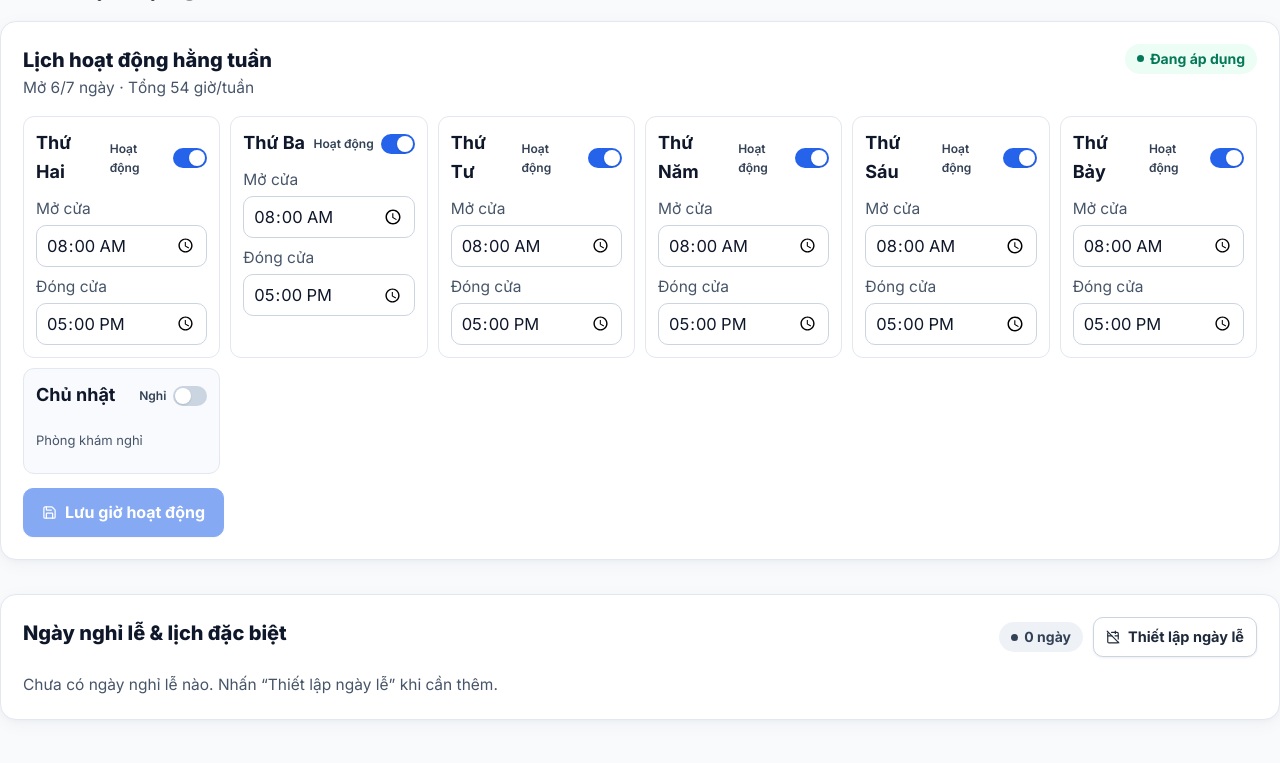
it: ClinicHoursPage › thêm được khoảng ngày nghỉ lễ liên tiếp
Expected: the text "Mở 6/7 ngày · Tổng 54 giờ/tuần" is shown, [23,78,254,96]
Step 1. Click the button "Thiết lập ngày lễ" → [1175, 637], box [1093,618,1257,657]
(page scrolled)
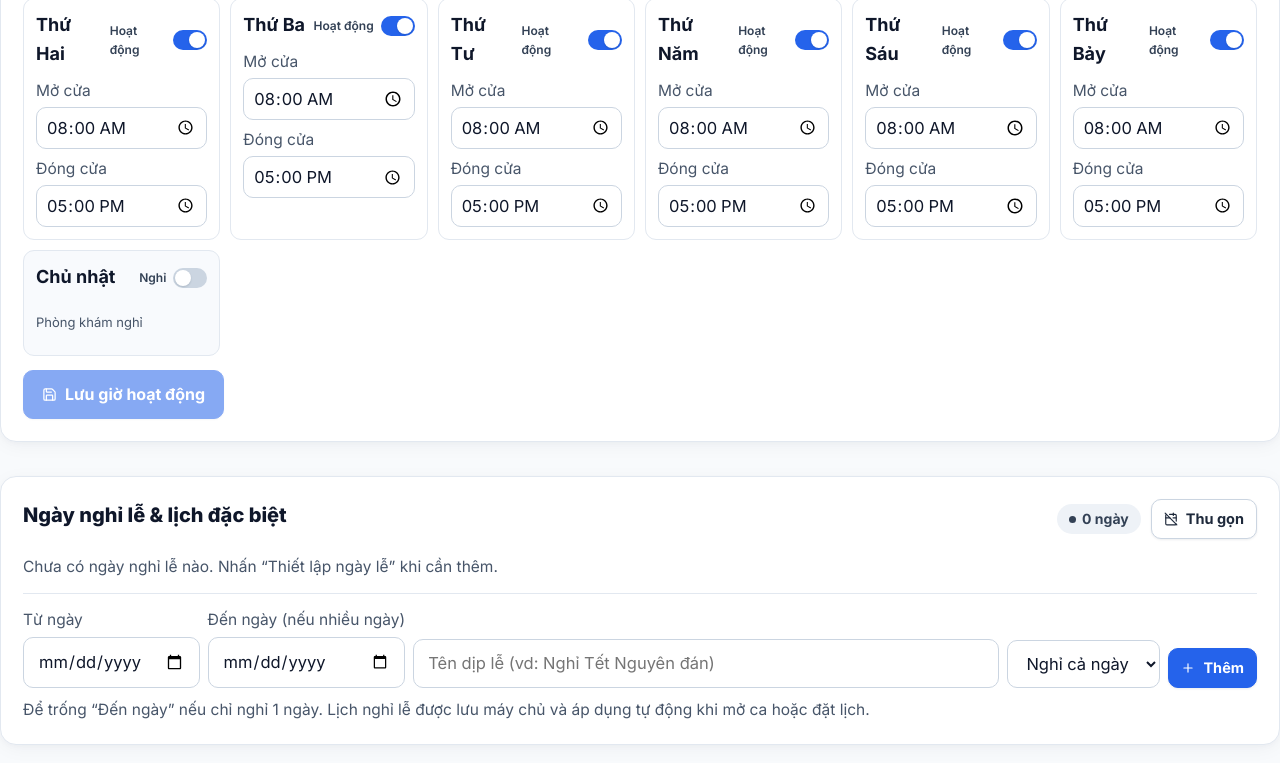
Step 2. Type "2026-09-01" into the date field named "Từ ngày nghỉ lễ" → [111, 662], box [23,637,200,688]
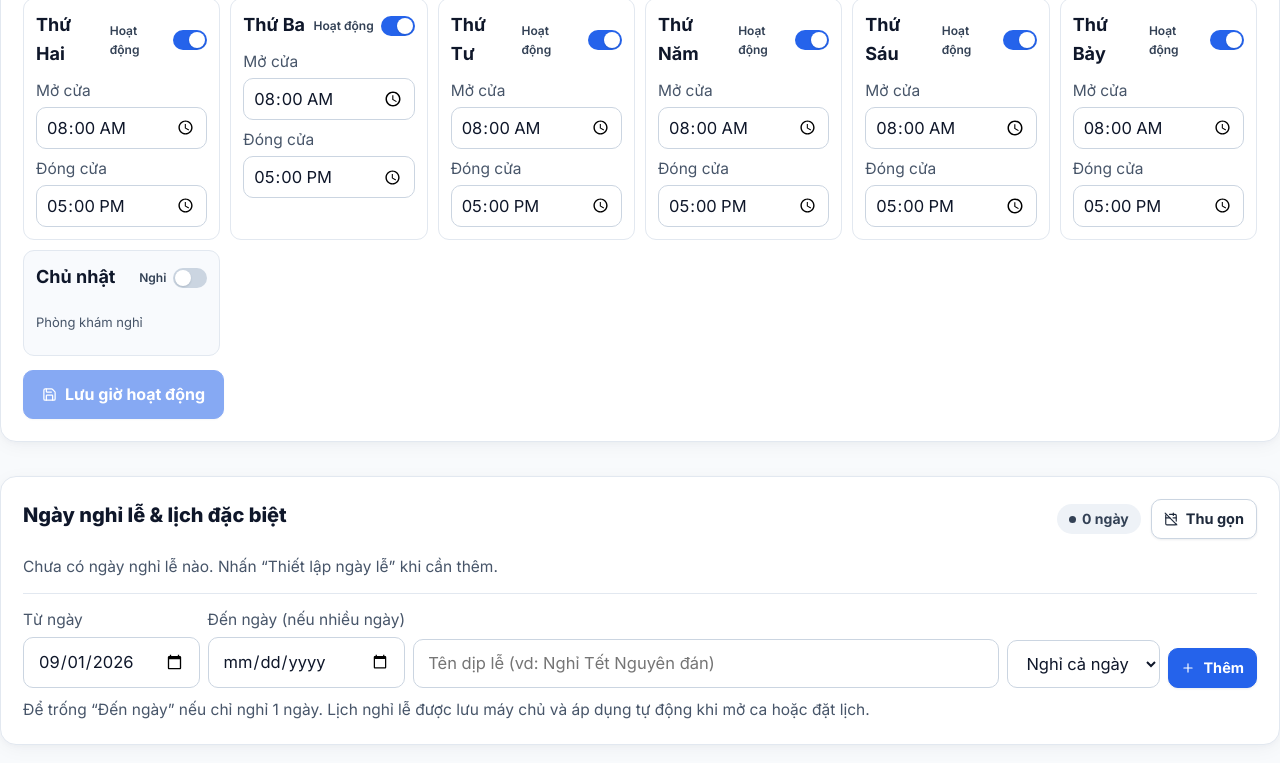
Step 3. Type "2026-09-04" into the date field named "Đến ngày nghỉ lễ" → [306, 662], box [208,637,405,688]
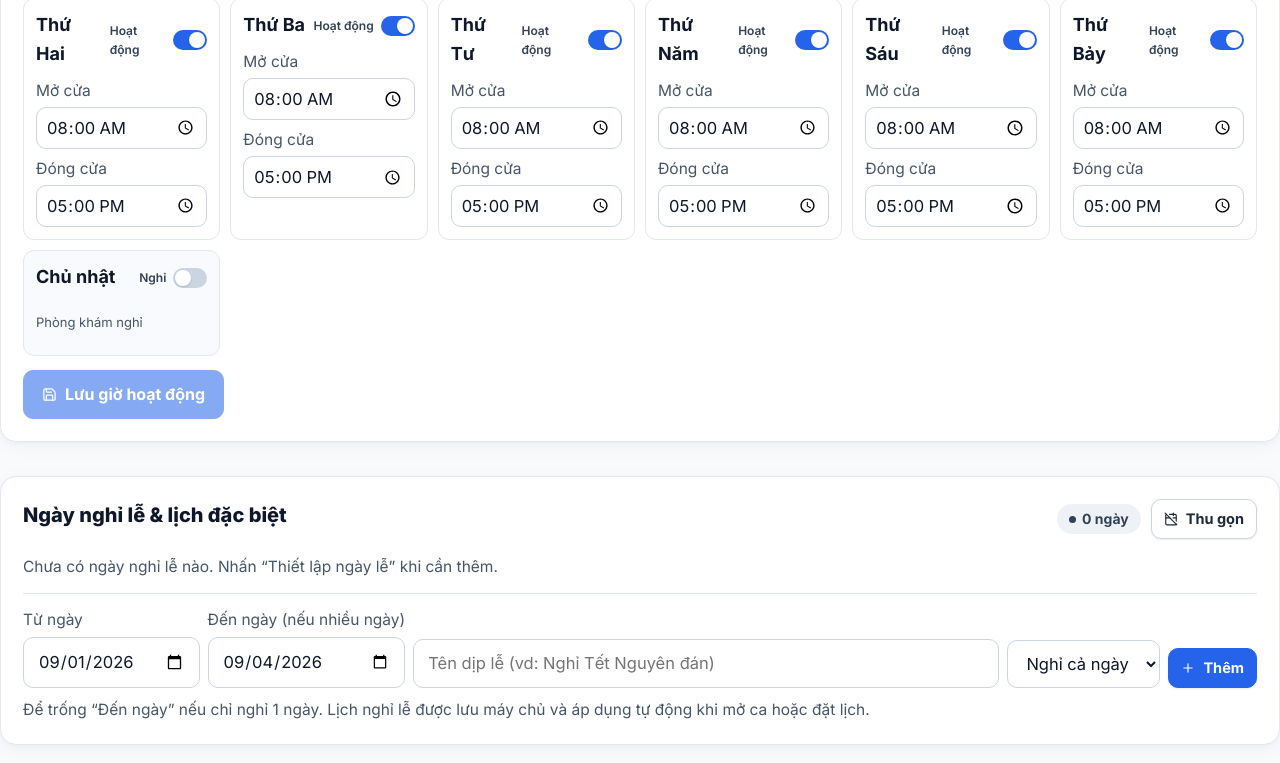
Step 4. Type "Nghỉ lễ Quốc khánh" into the field labelled "Tên dịp lễ" → [706, 663], box [413,639,1000,688]
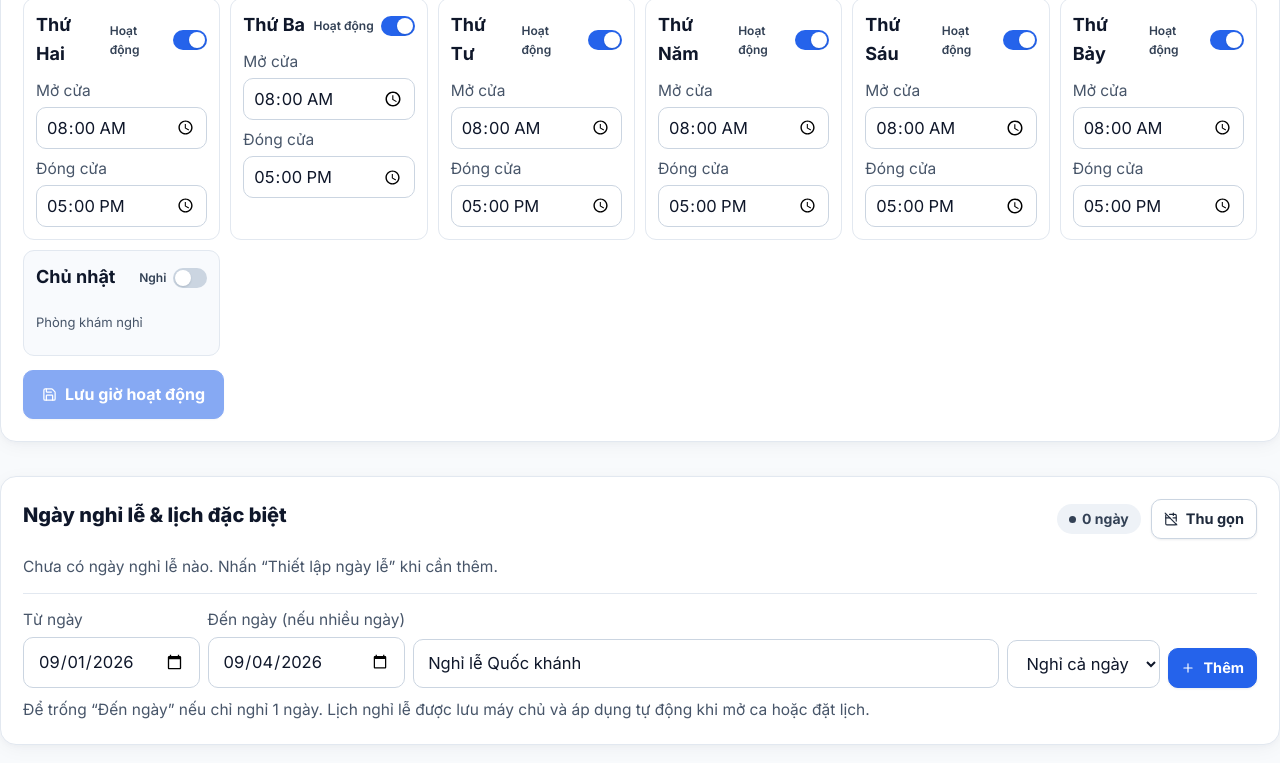
Step 5. Click the button "Thêm" → [1213, 668], box [1168,648,1257,688]
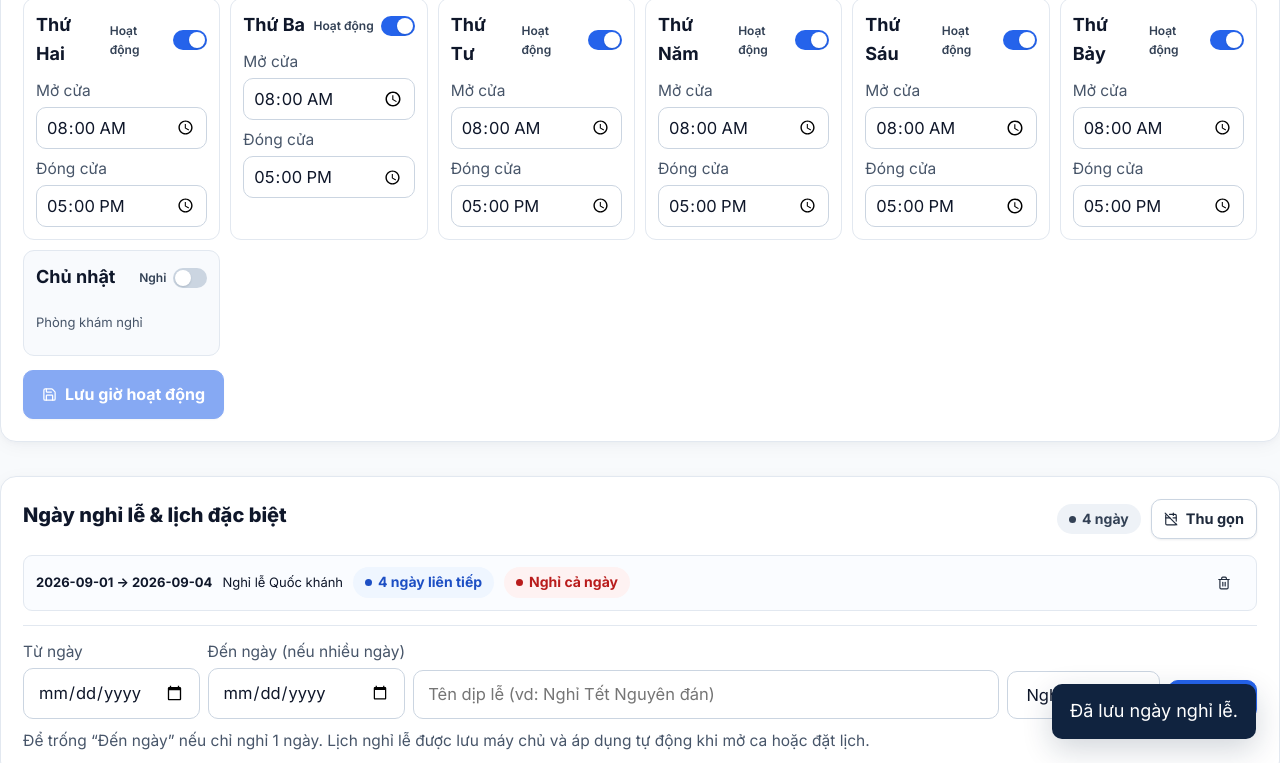
Now the text "Nghỉ lễ Quốc khánh" is shown, box [222,572,343,593]
Now the text "4 ngày liên tiếp" is shown, box [353,567,494,598]
Now the text "4 ngày" is shown, box [1057,504,1141,534]
